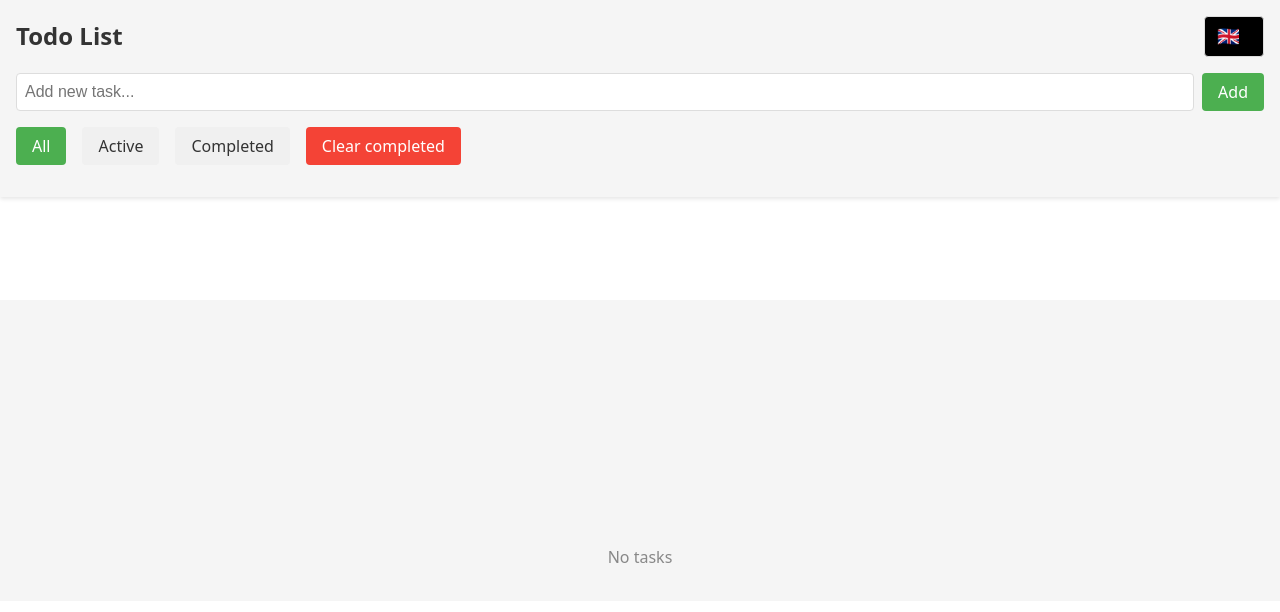
Test: TodoList › deletes todo when delete button is clicked
Добавляем задачу
Type "Test Todo" into the field with placeholder "Add new task..." at (605, 92), box [16,73,1194,111]
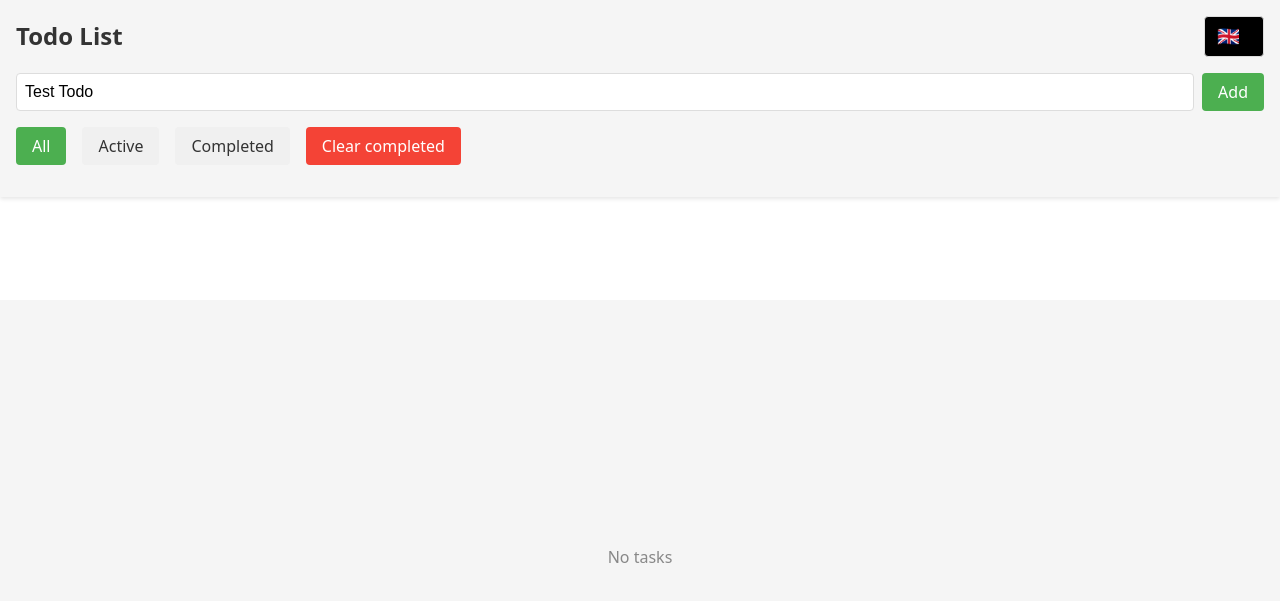
Click the button "Add" at (1233, 92), box [1202,73,1264,111]
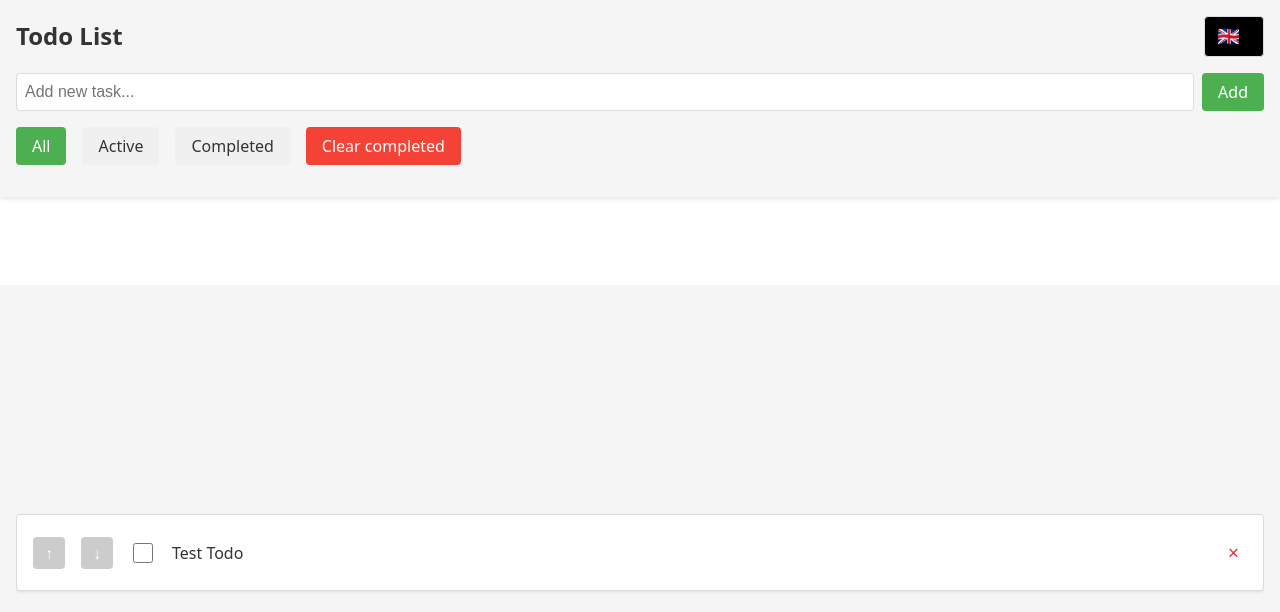
Находим и кликаем по кнопке удаления
Click the button "×" at (1234, 552), box [1220,531,1247,574]
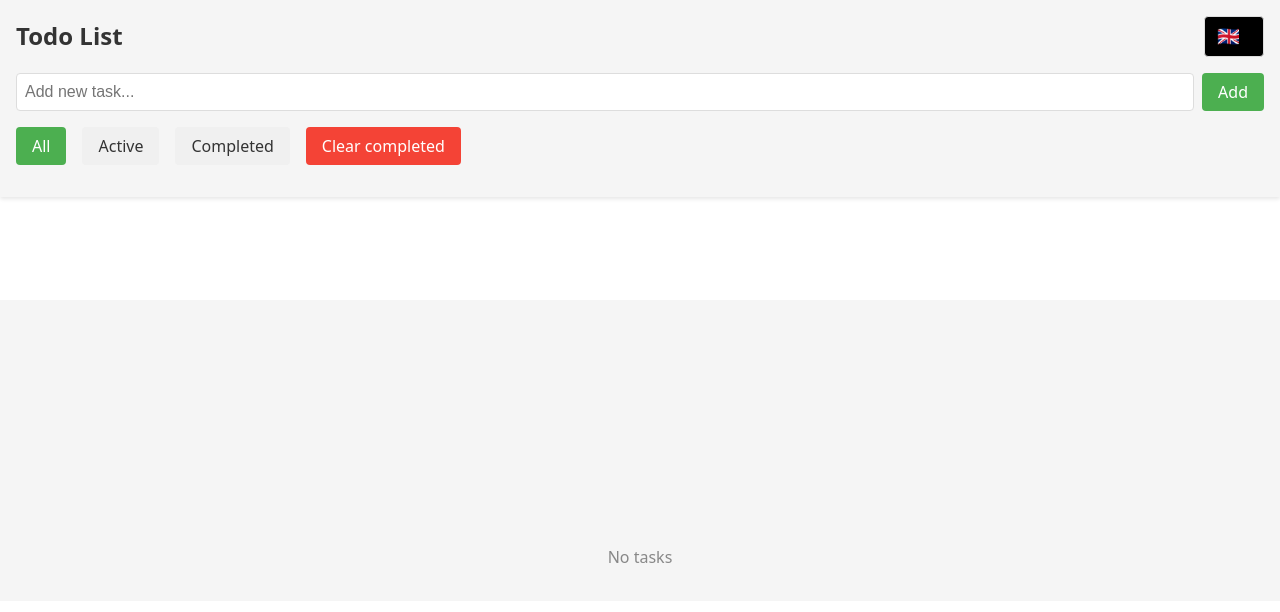
expect the text "Test Todo" is gone: met
